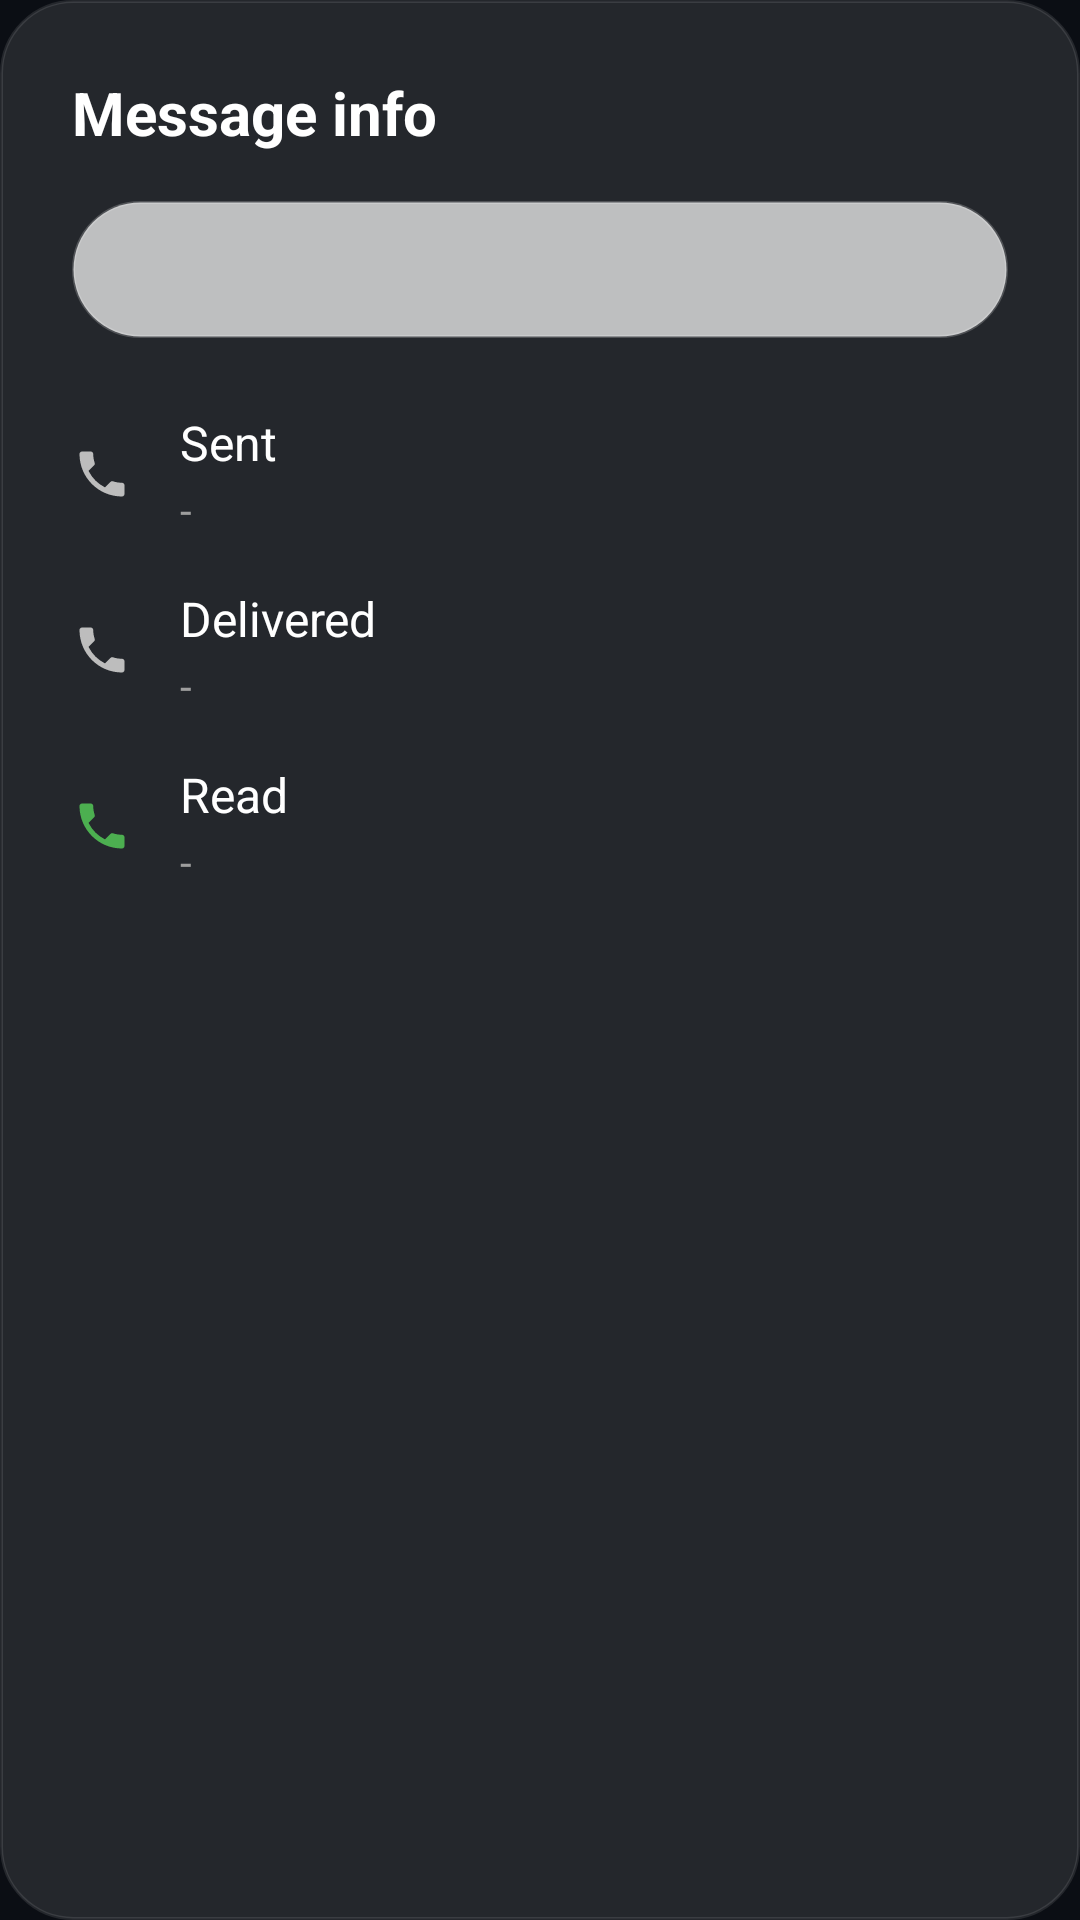

Icon bounding boxes for this 1080 x 1920 phone screenshot, format (x1, y1, x2, y2):
call accept: (79, 451, 125, 497), (79, 627, 125, 673), (79, 803, 125, 849)
